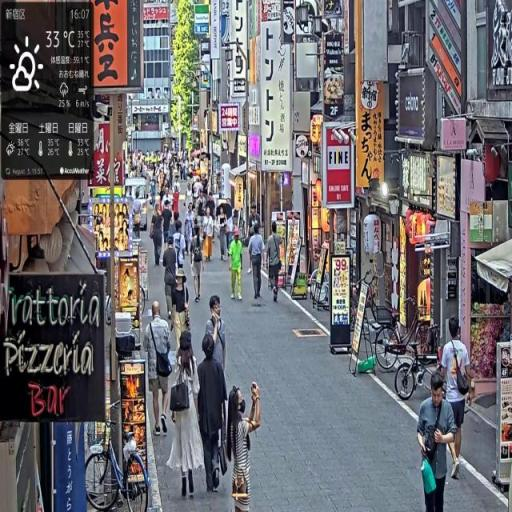person: (416, 371, 460, 512), (168, 331, 204, 503), (440, 319, 475, 480), (197, 334, 228, 496), (227, 379, 263, 510), (149, 298, 175, 439), (164, 233, 181, 326), (266, 222, 285, 303), (249, 225, 266, 303), (229, 230, 245, 302), (191, 228, 206, 303), (151, 202, 166, 268), (204, 207, 217, 263), (184, 208, 196, 260), (219, 207, 229, 262)
